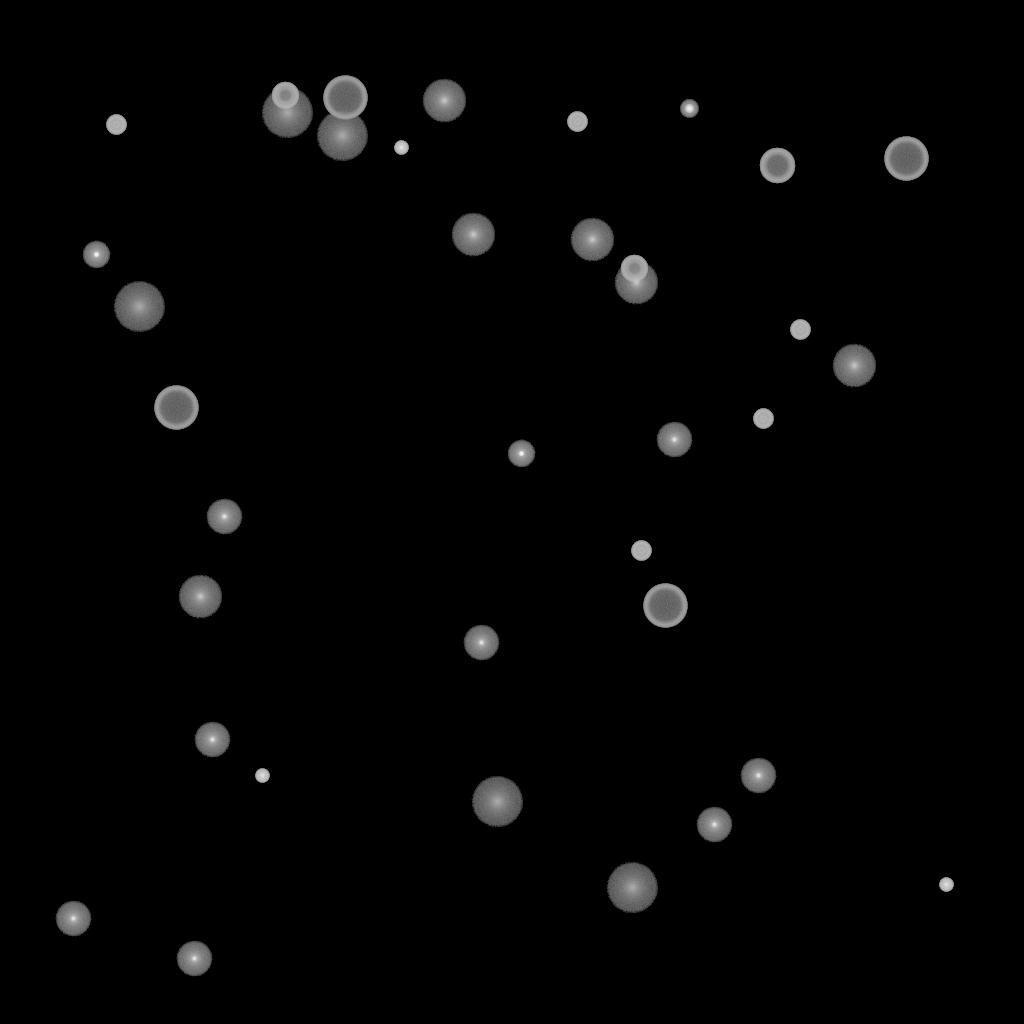depth:-10: (82, 241, 110, 269), (507, 440, 535, 468)
depth:-20: (680, 100, 698, 118)
depth:-30: (939, 878, 953, 892), (394, 141, 408, 155), (255, 769, 269, 783)
depth:-40: (631, 541, 651, 561), (567, 112, 587, 132), (753, 409, 773, 429), (790, 320, 810, 340), (106, 115, 126, 135)
depth:-50: (271, 82, 299, 110), (620, 255, 648, 283)
depth:-60: (759, 148, 795, 184)
depth:-70: (643, 584, 687, 628), (323, 76, 367, 120), (154, 386, 198, 430), (884, 137, 928, 181)
depth:0: (55, 901, 91, 937), (176, 941, 212, 977), (206, 499, 242, 535), (656, 422, 692, 458), (463, 625, 499, 661), (194, 722, 230, 758), (740, 758, 776, 794), (696, 807, 732, 843)
depth:10: (178, 575, 222, 619), (832, 344, 876, 388), (614, 261, 658, 305), (422, 79, 466, 123), (451, 213, 495, 257), (570, 218, 614, 262)
depth:20: (471, 777, 523, 827), (113, 282, 165, 332), (606, 863, 658, 913), (316, 111, 368, 161), (261, 88, 313, 138)
